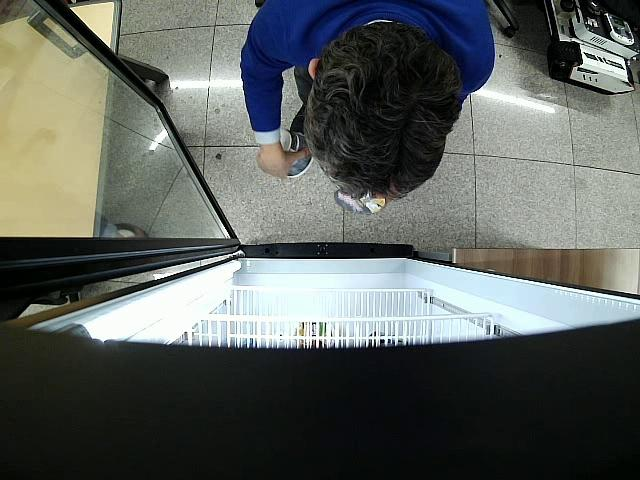00_hand: (257, 148, 310, 179)
07_buldak_L: (280, 129, 315, 177), (335, 184, 387, 216)
